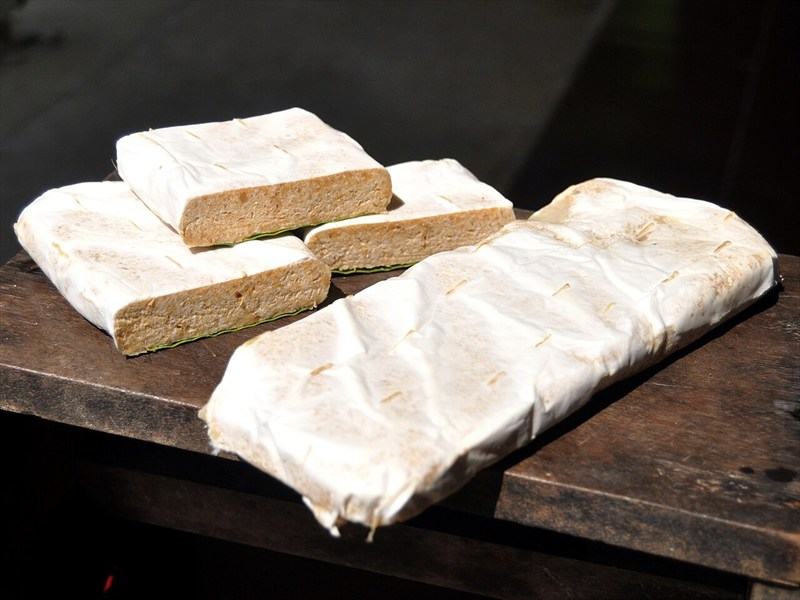Tempe Goreng: (62, 124, 718, 501)
